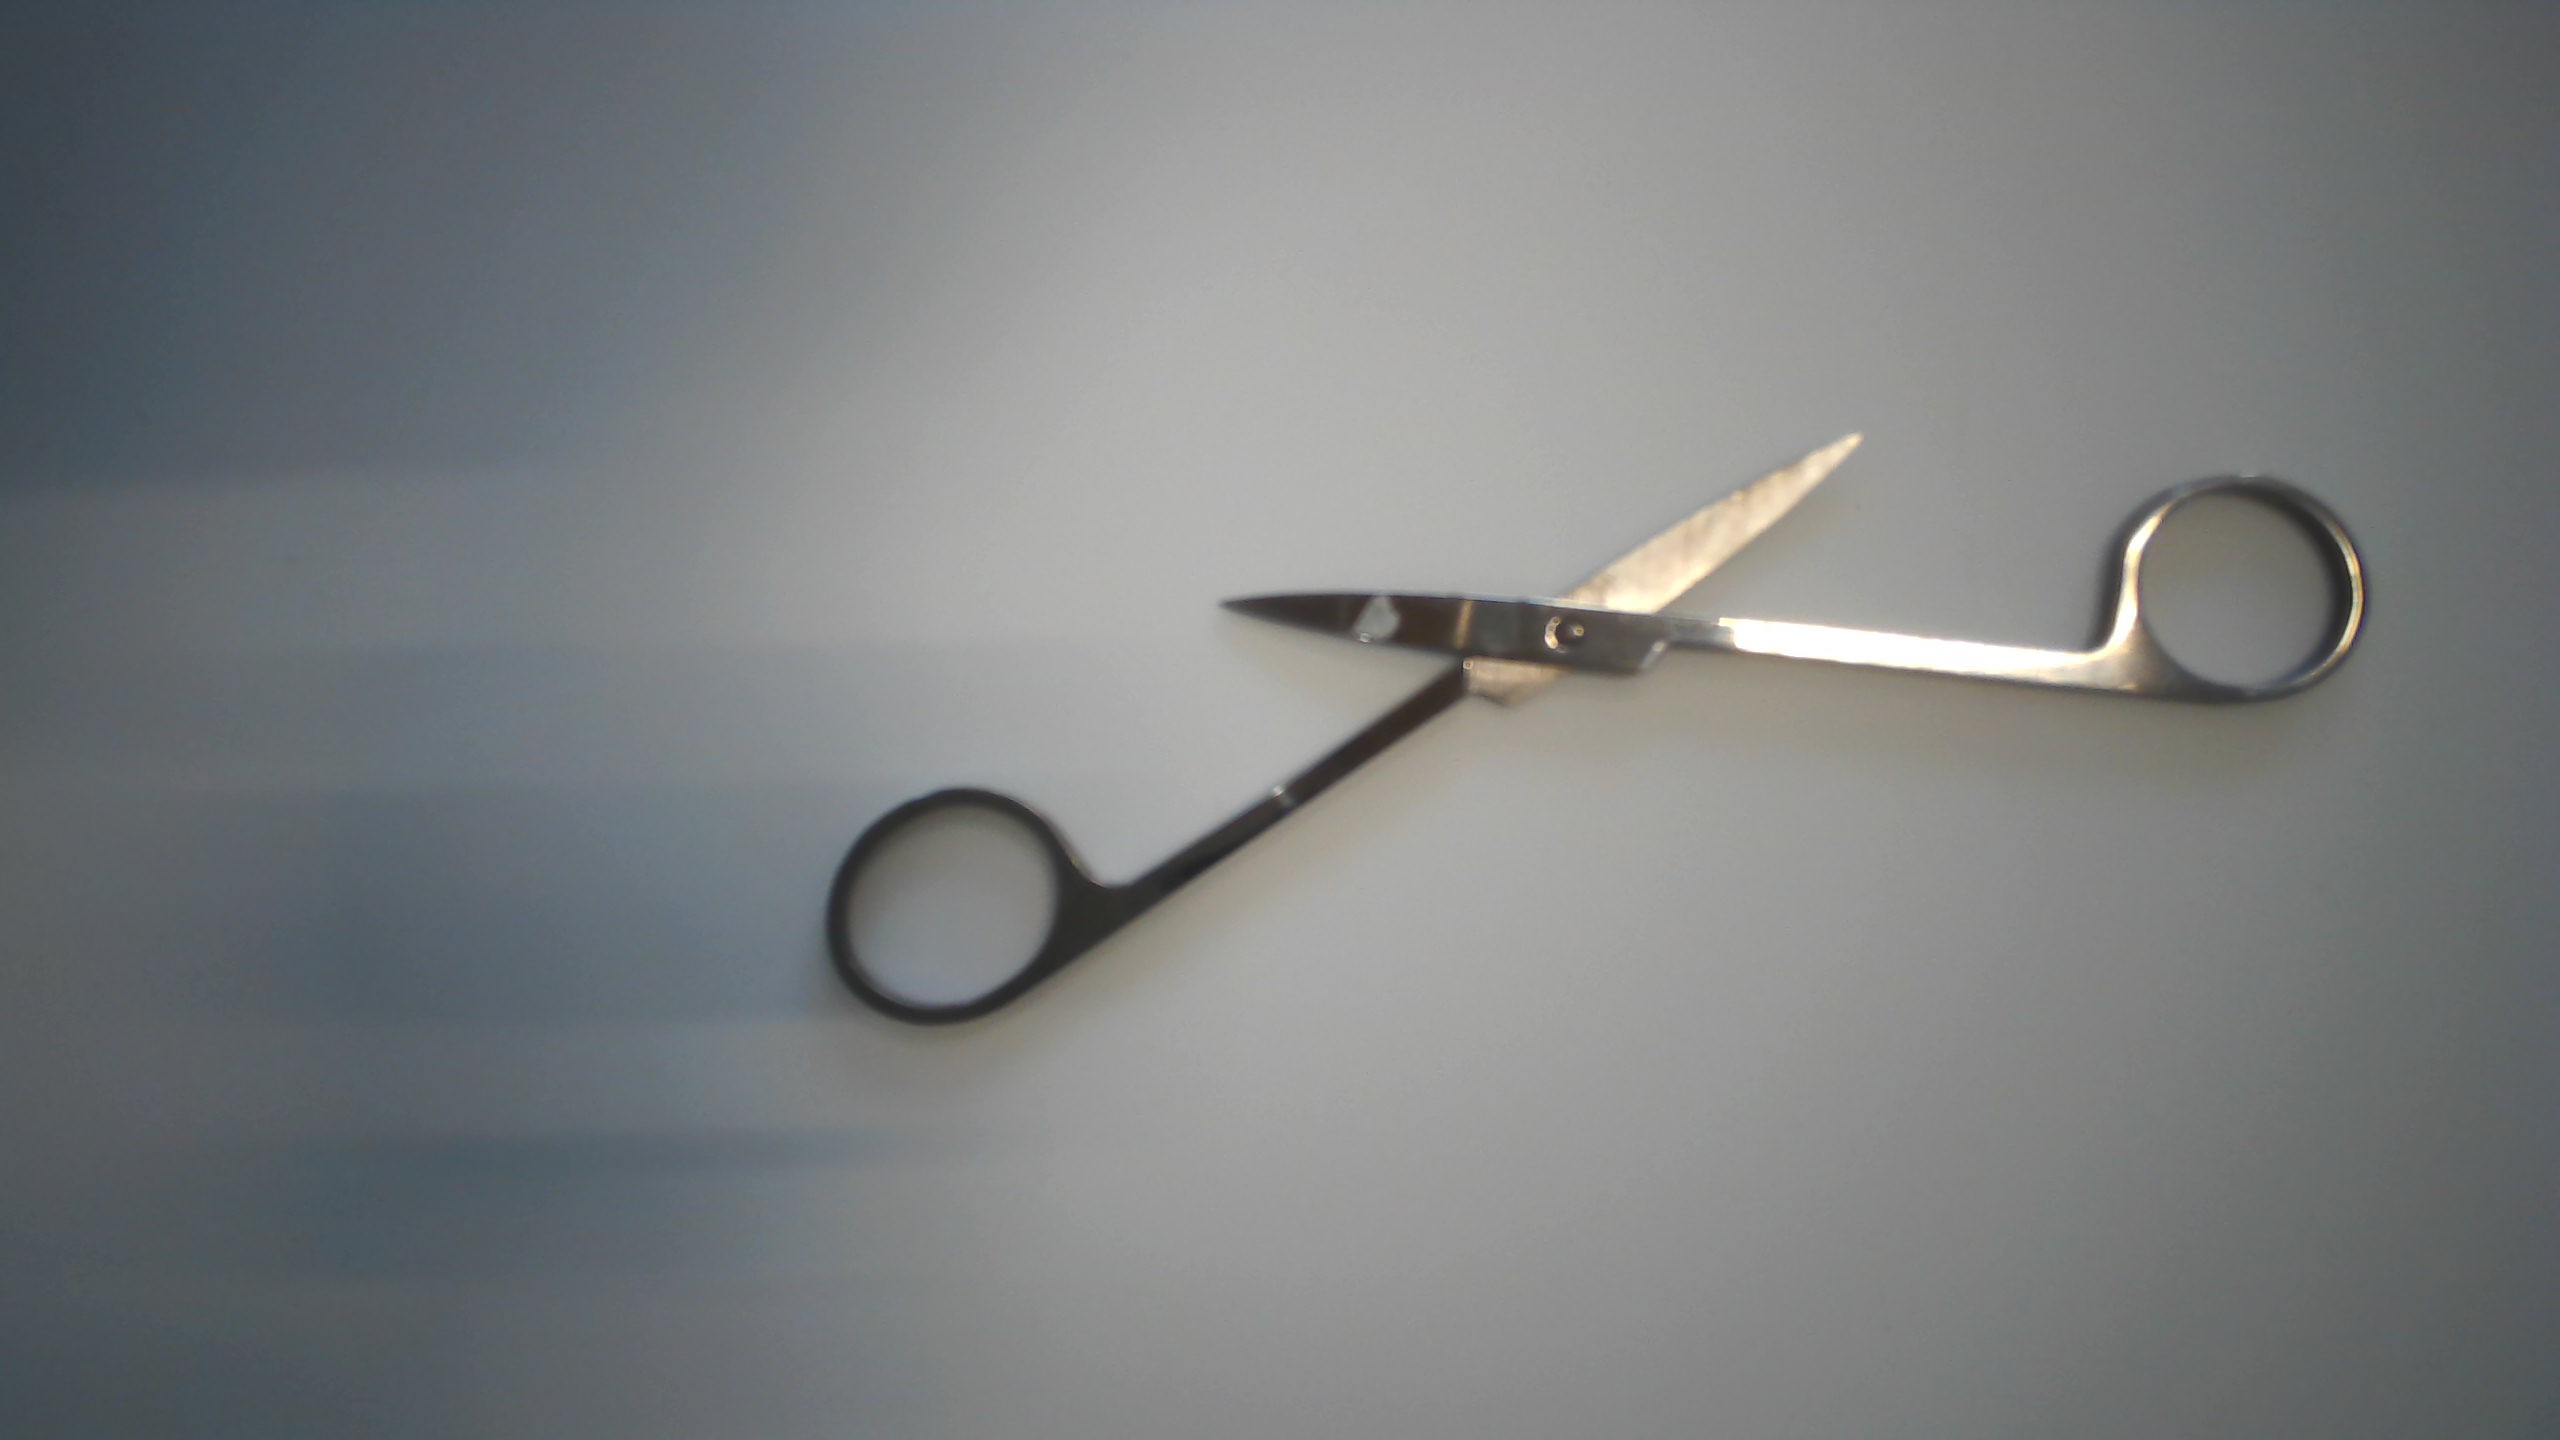Tissues: (1356, 587, 1414, 675)
